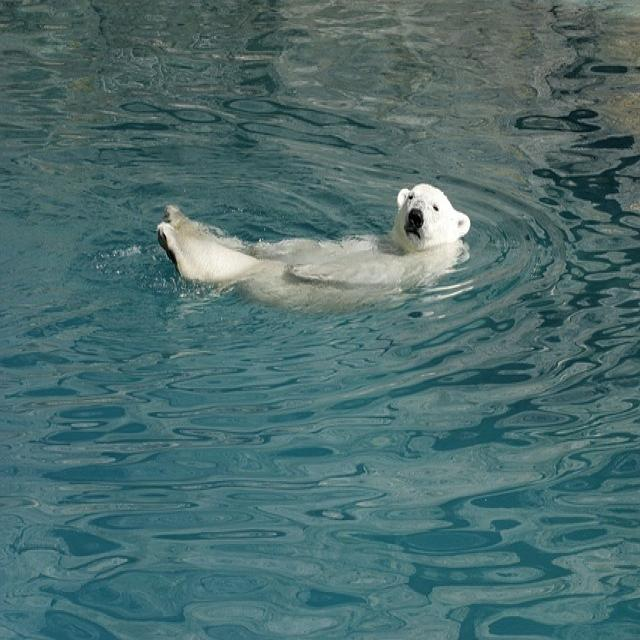Carnivorous: (157, 184, 470, 304)
